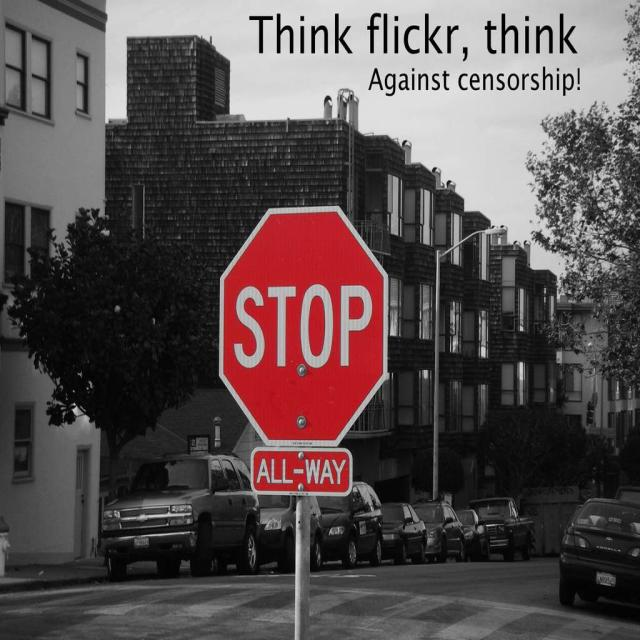Stop-sign: (220, 205, 390, 448)
